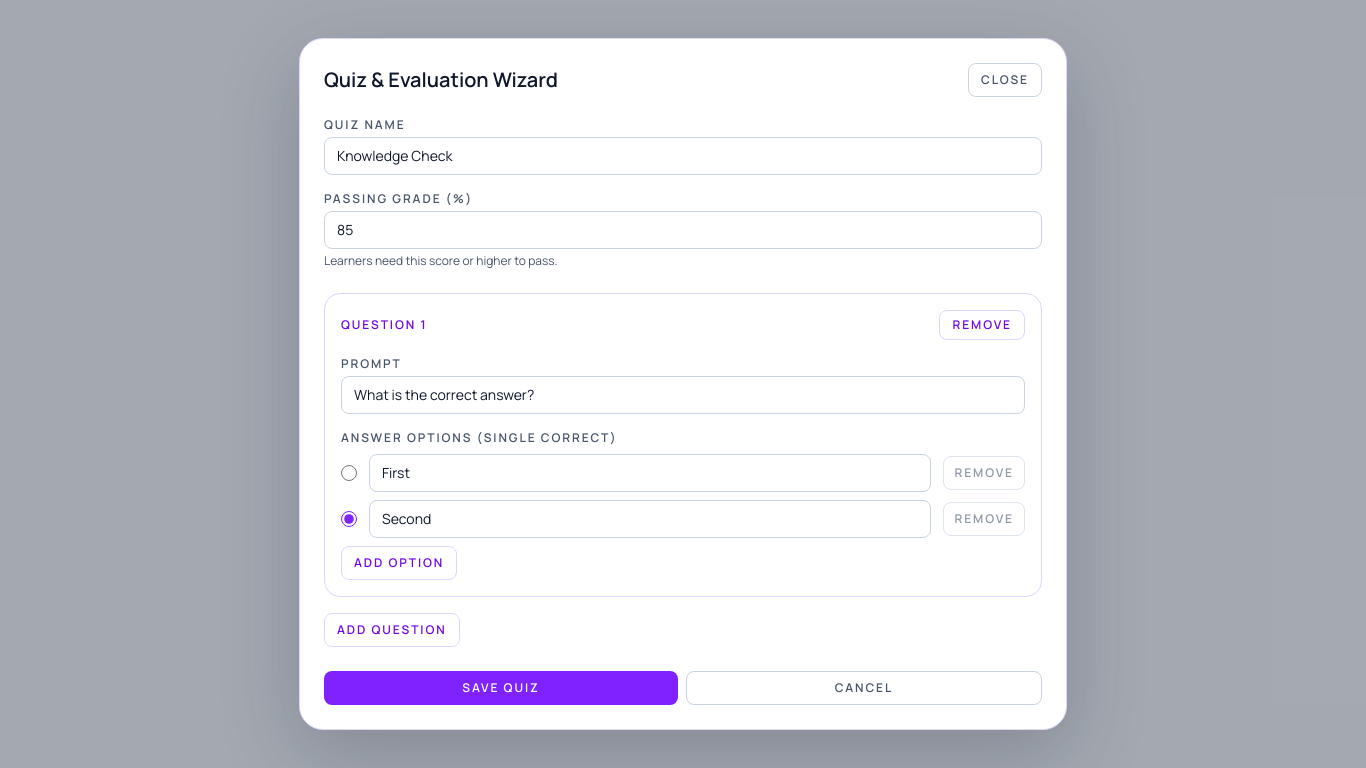
Test case: QuizWizard › adds options and reassigns the correct option when the selected one is removed
Click the button "Add Option" at (399,563), box [341,546,457,580]
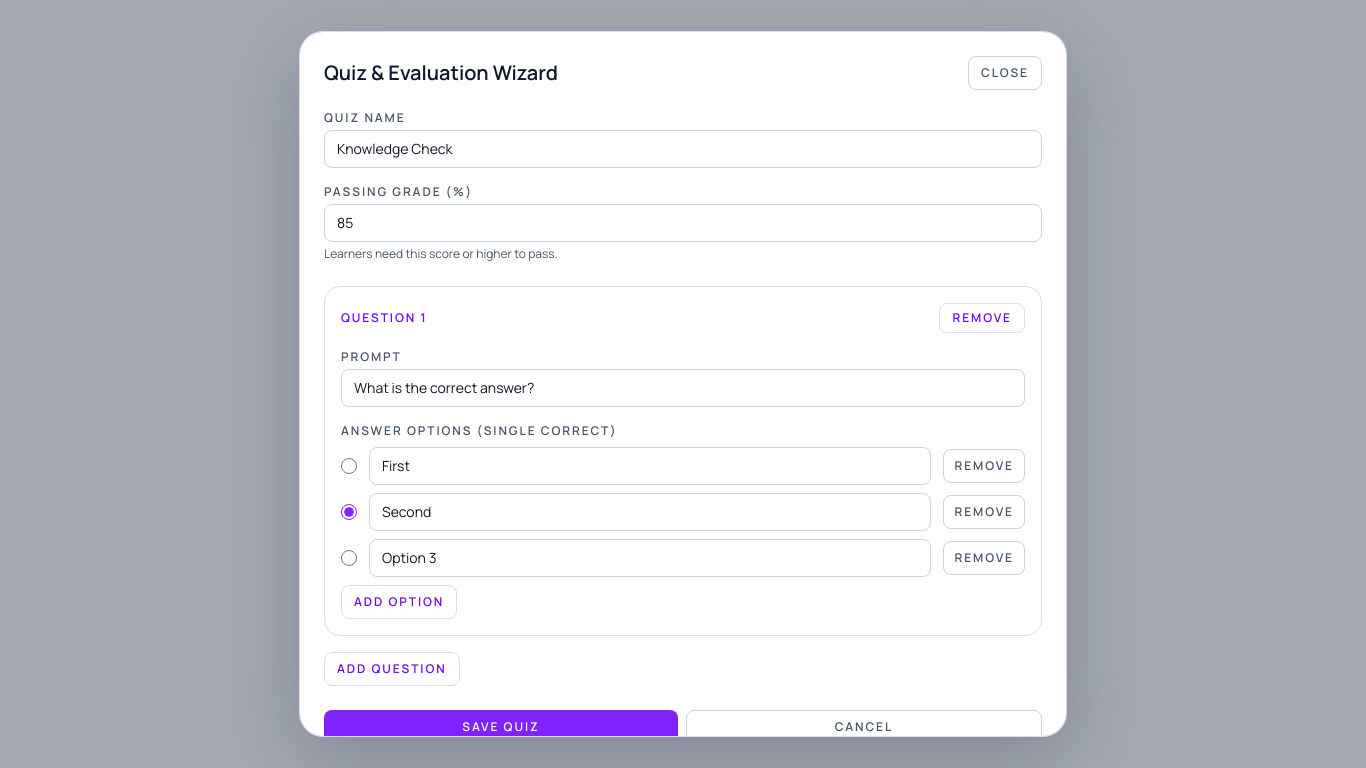
Click the radio button named "Mark option 3 as correct" at (349,558), box [341,550,357,566]
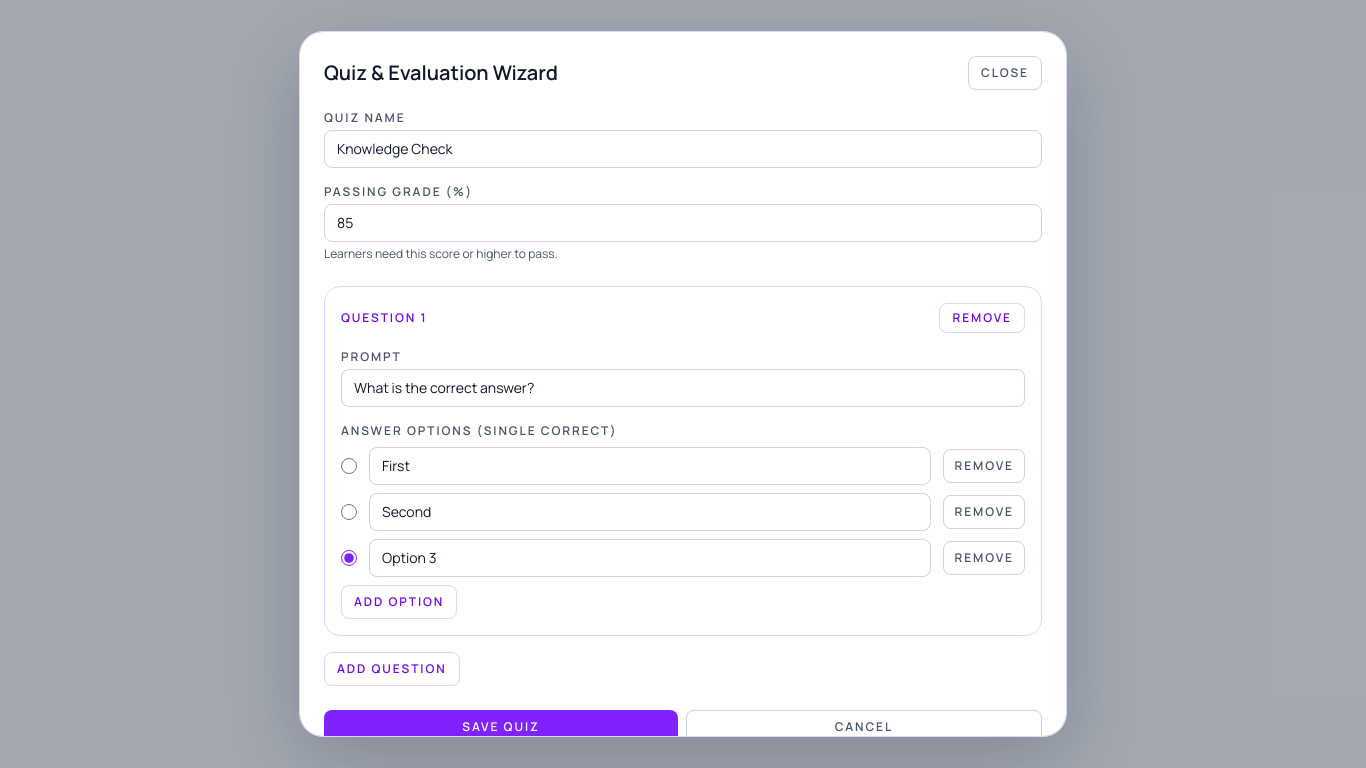
Expected: the radio button named "Mark option 3 as correct" is checked, [341,550,357,566]
Expected: the 3rd element showing "Option 3" is shown, [341,539,1025,577]
Click the 4th button "Remove" at (984,558), box [944,541,1025,575]
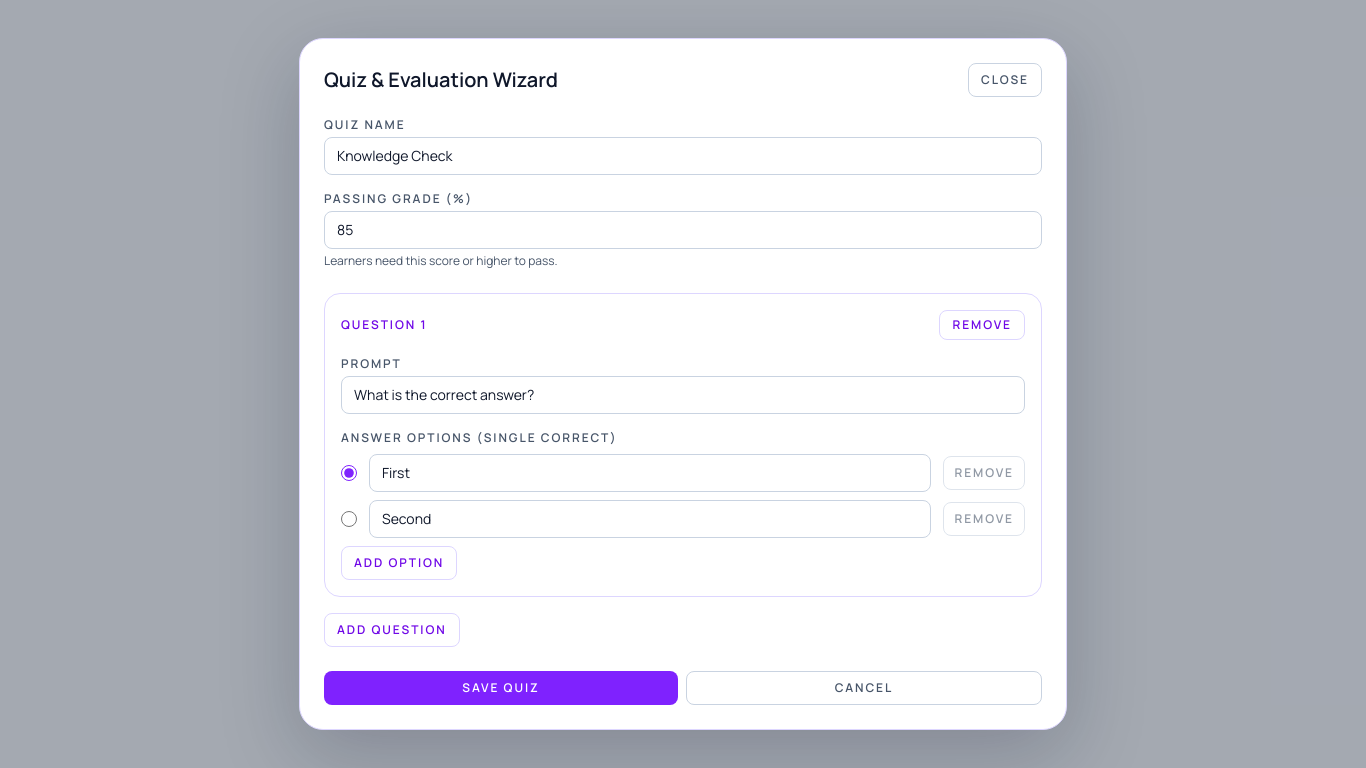
Expected: the radio button named "Mark option 1 as correct" is checked, [341,465,357,481]
